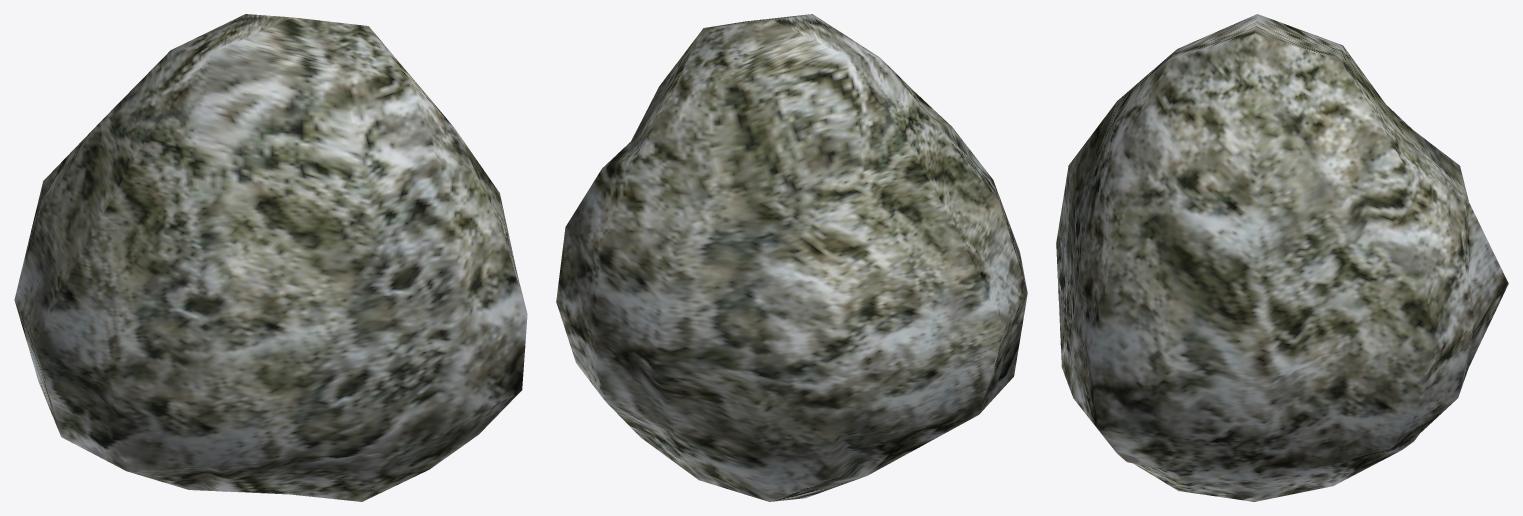
File: meteorit_01.fbx
3 views of the same model, side by side, from view 1: azimuth 30°, elevation 25°; view 2: azimuth 150°, elevation 25°; view 3: azimuth 270°, elevation 25° (orthographic). The views are drawn at different scales.
Visible parts, largest first — view 1: pCube1; view 2: pCube1; view 3: pCube1.
Boxes of the visible parts, x1=… form: pCube1: x1=14, y1=14, x2=527, y2=501; pCube1: x1=556, y1=14, x2=1027, y2=501; pCube1: x1=1056, y1=14, x2=1508, y2=501.
Size of the model in its own units: 735 by 739 by 679.
